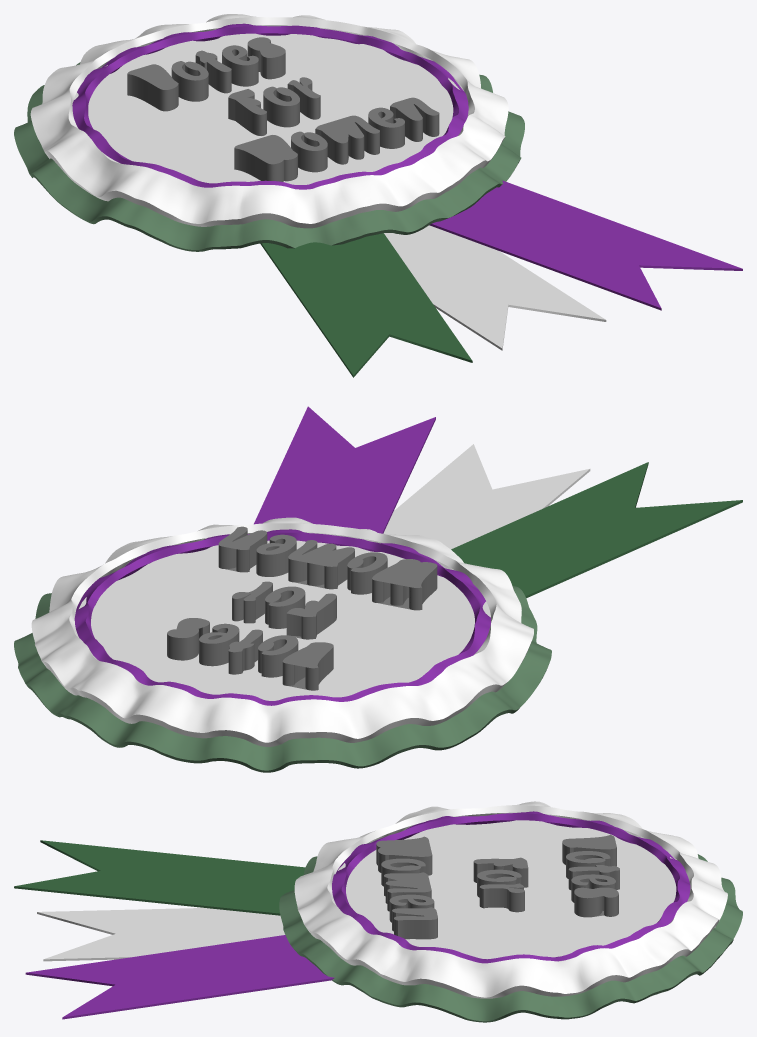
The model's file is BadeFIXED.fbx.
3 renders of one model, top to bottom at view 1: azimuth 30°, elevation 25°; view 2: azimuth 150°, elevation 25°; view 3: azimuth 270°, elevation 25°, orthographic. The views are drawn at different scales.
Visible parts, largest first — view 1: pCube8; view 2: pCube8; view 3: pCube8.
Boxes of the visible parts, left/top/right/bottom form: pCube8: left=14, top=14, right=742, bottom=377; pCube8: left=14, top=406, right=742, bottom=772; pCube8: left=14, top=801, right=742, bottom=1022.
Size of the model in its own units: 24.47 by 3.33 by 38.33.
